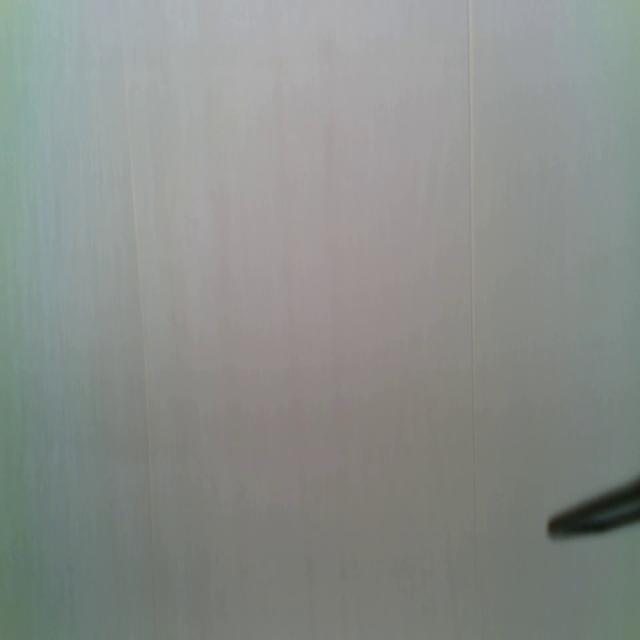crease: (118, 2, 155, 566), (465, 0, 480, 544)
